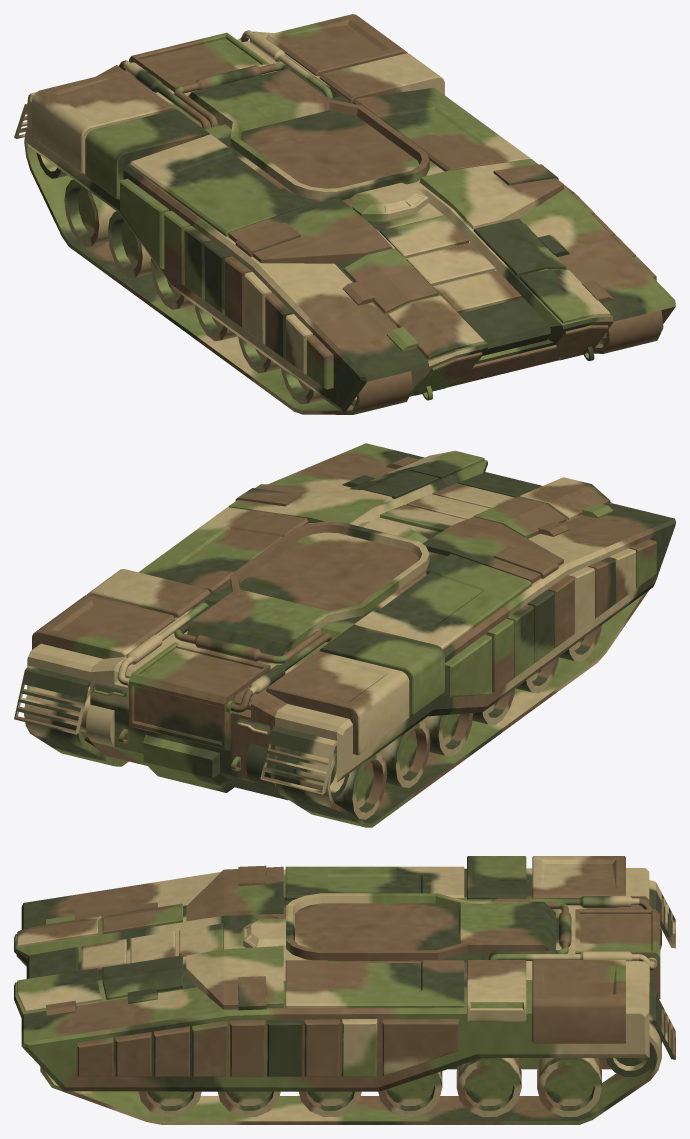
File: TankBody.fbx
The picture shows the model from 3 angles, top to bottom: view 1: azimuth 30°, elevation 25°; view 2: azimuth 150°, elevation 25°; view 3: azimuth 270°, elevation 25°; orthographic projection. The views are drawn at different scales.
Visible parts, largest first — view 1: TankBottom; view 2: TankBottom; view 3: TankBottom.
Boxes of the visible parts, x1=… form: TankBottom: x1=14, y1=14, x2=675, y2=414; TankBottom: x1=14, y1=443, x2=675, y2=827; TankBottom: x1=14, y1=856, x2=675, y2=1124.
Bounding box in the file's own units: 0.8963 × 0.3697 × 1.67.
Materials: 1 (1 with a texture image).
